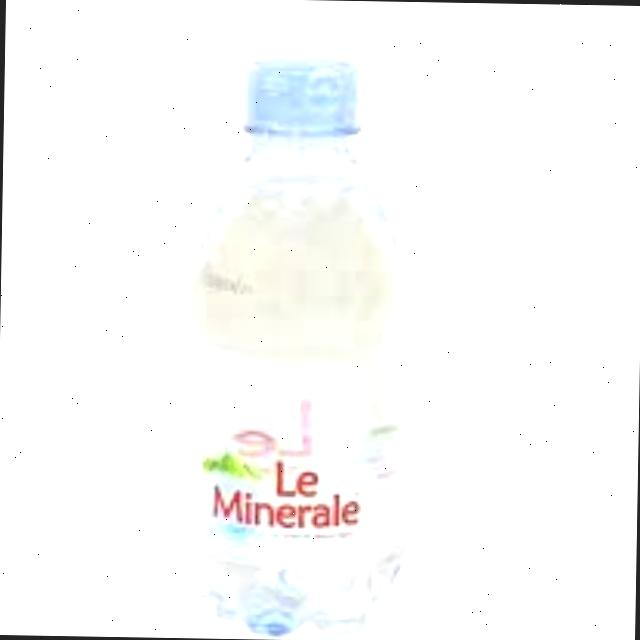trash: (177, 47, 417, 640)
